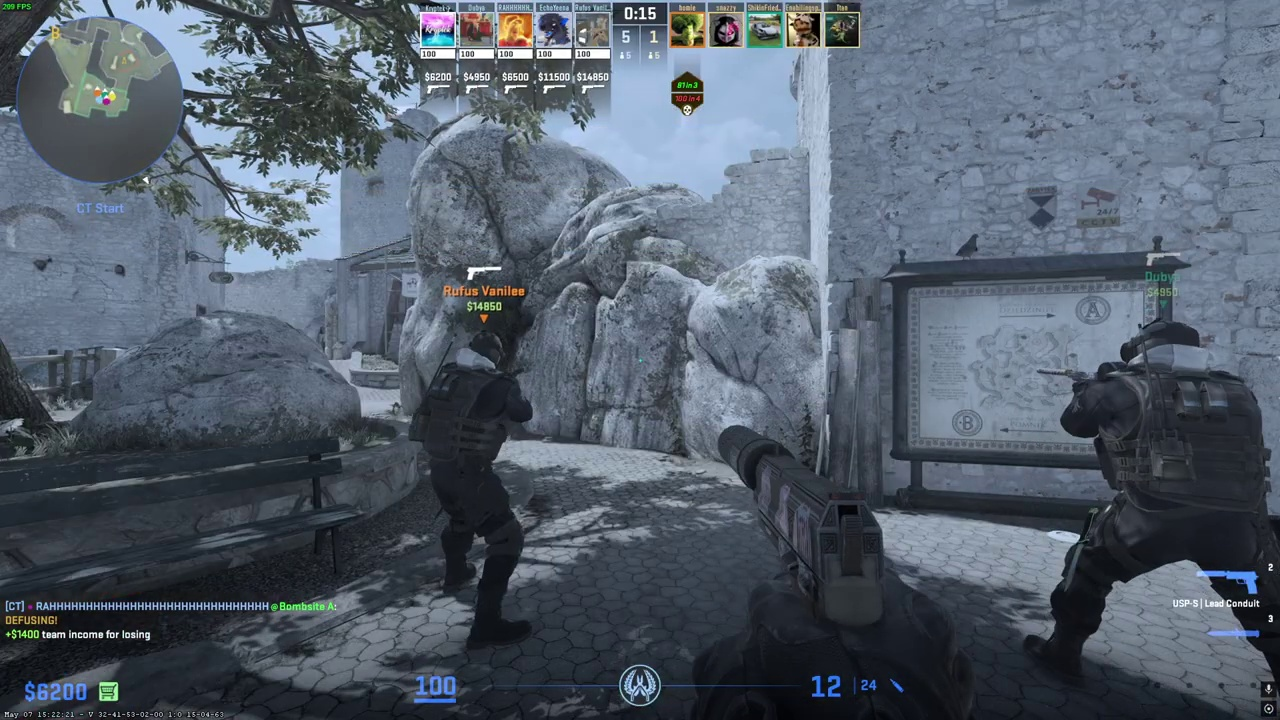CT: (1050, 317, 1276, 718), (423, 330, 537, 648)
